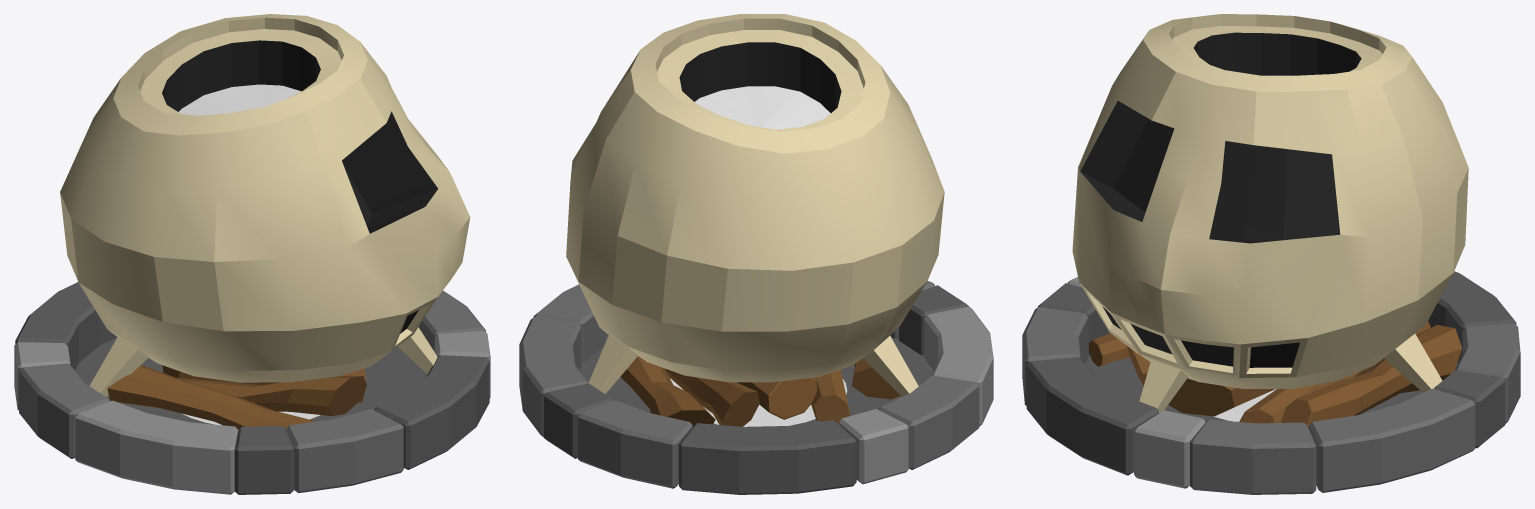
File: Bones-Cocina.fbx
3 renders of one model, left to right at view 1: azimuth 30°, elevation 25°; view 2: azimuth 150°, elevation 25°; view 3: azimuth 270°, elevation 25°, orthographic. The views are drawn at different scales.
Visible parts, largest first — view 1: Cylinder.002; view 2: Cylinder.002; view 3: Cylinder.002.
Part boxes in pixels (x1=…): Cylinder.002: x1=14, y1=14, x2=490, y2=494; Cylinder.002: x1=519, y1=14, x2=993, y2=494; Cylinder.002: x1=1022, y1=14, x2=1520, y2=494.
Bounding box in the file's own units: 343 × 275 × 343.
